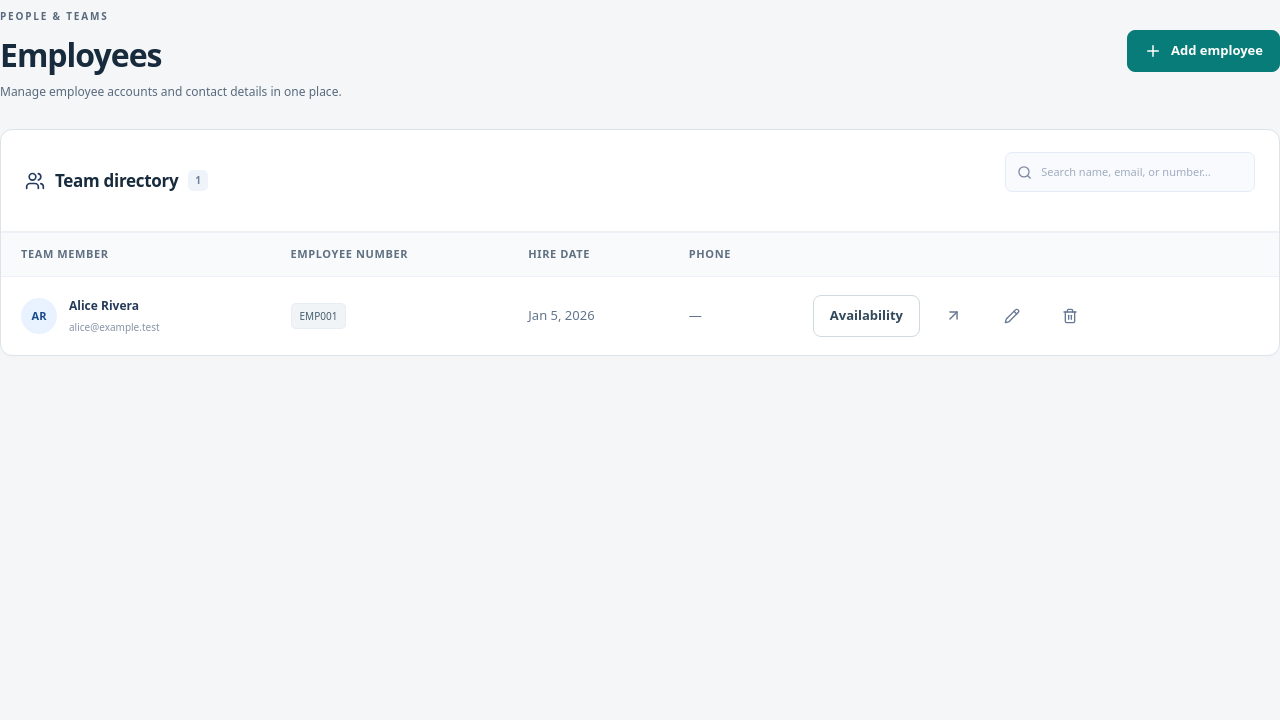
requires confirmation before employee deletion and refreshes the list
What coordinates should you click on to do the following:
click the button named "Delete Alice Rivera"
I would click on:
 (1070, 316)
Its box is [1045,295,1095,337].
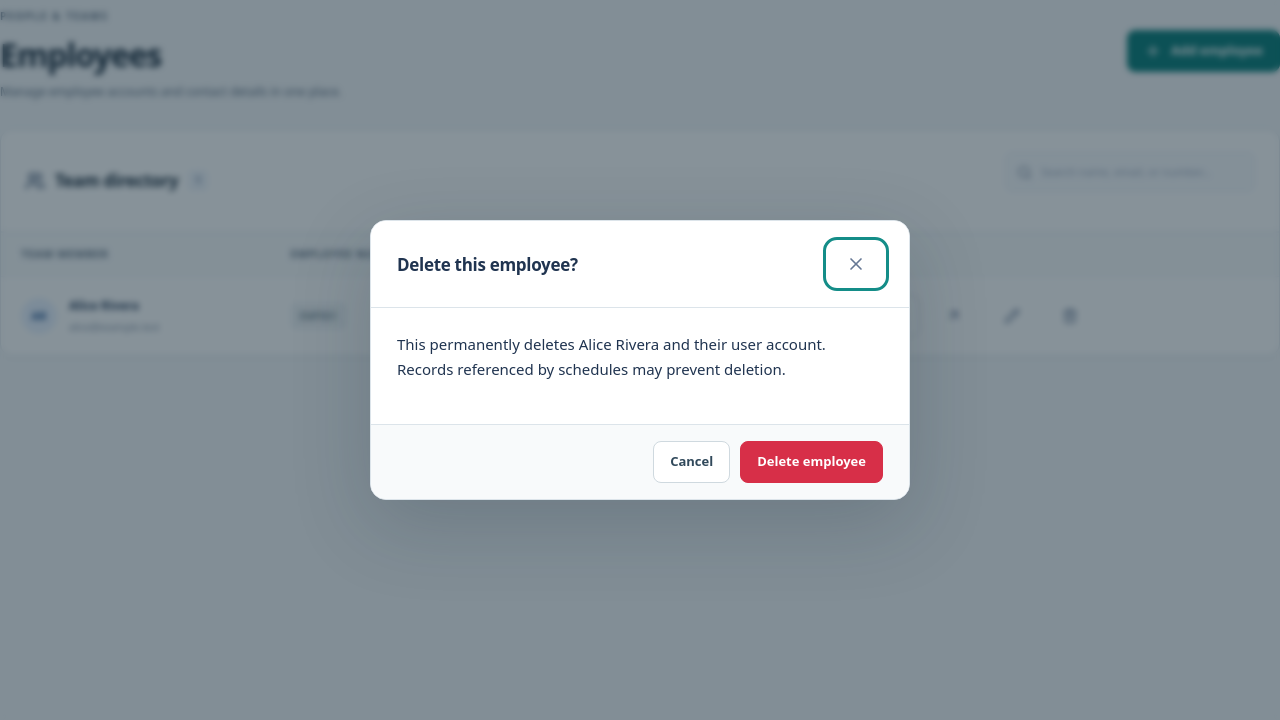
Result: the dialog shows "user account" at [397,334,826,379]
What coordinates should you click on to do the following:
click the button "Delete employee"
I would click on:
 (812, 462)
Its box is [740,441,883,483].
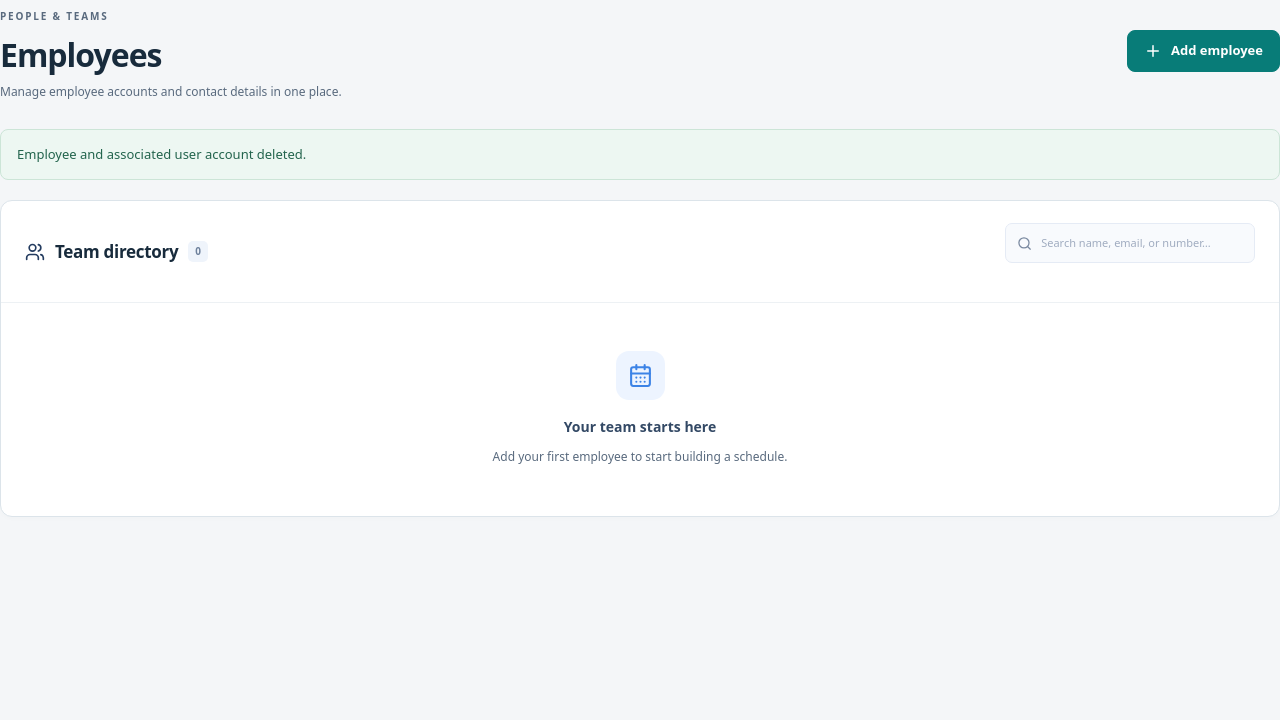
Result: the text "Employee and associated user account deleted." is shown at [0,129,1279,180]
Result: the heading "Your team starts here" is shown at [564,417,716,436]
